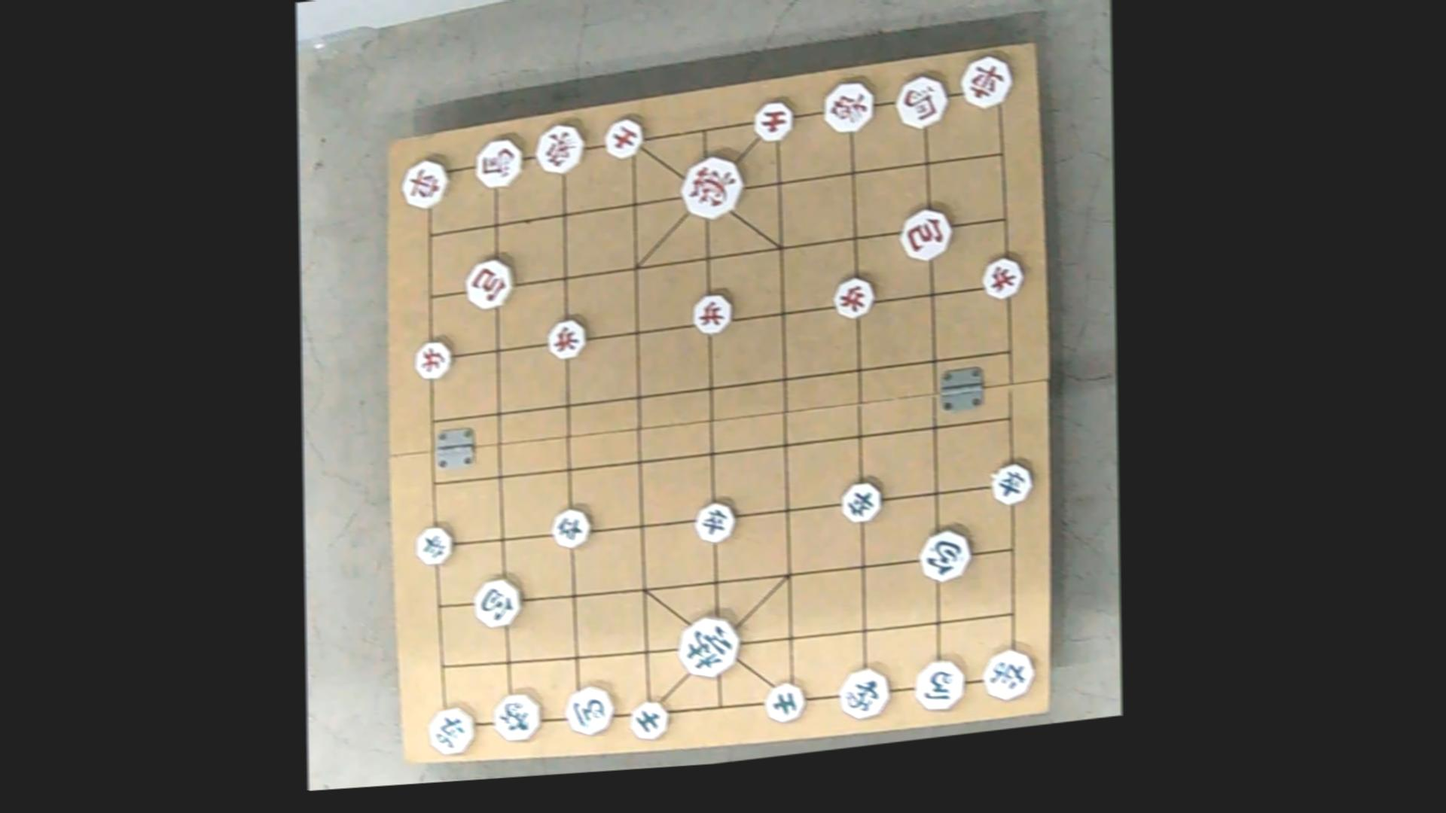cha_green: (984, 645, 1036, 705), (427, 699, 475, 756)
cha_red: (959, 48, 1012, 110), (402, 154, 450, 210)
jol_green: (993, 458, 1034, 506), (840, 478, 882, 524), (694, 498, 735, 544), (553, 504, 591, 549), (417, 522, 454, 567)
jol_red: (833, 269, 874, 318), (691, 288, 731, 337), (981, 253, 1022, 300), (549, 317, 587, 364), (415, 332, 453, 376)
ma_green: (914, 655, 966, 714), (564, 683, 612, 738)
ma_red: (896, 69, 948, 129), (472, 134, 521, 191)
po_green: (915, 522, 974, 582), (473, 576, 520, 631)
po_red: (900, 206, 950, 263), (465, 257, 514, 313)
sa_green: (627, 696, 670, 743), (764, 677, 805, 723)
sa_red: (749, 96, 794, 147), (601, 112, 646, 160)
sang_green: (487, 688, 541, 744), (837, 662, 888, 720)
sang_red: (816, 75, 874, 137), (536, 119, 585, 177)
wang_green: (679, 613, 740, 681)
wang_red: (682, 148, 743, 220)
